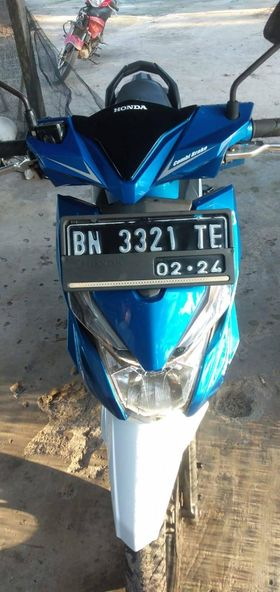plate: (60, 217, 237, 285)
